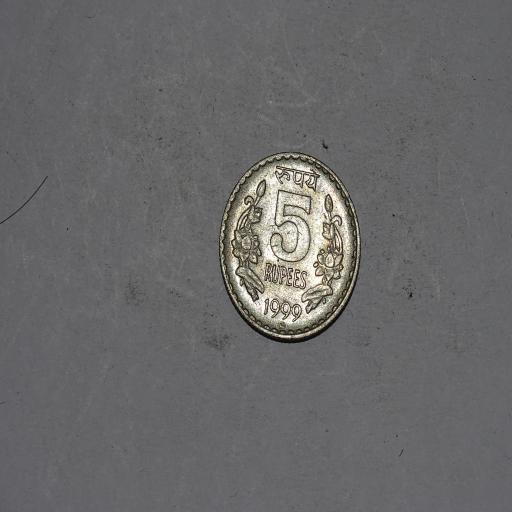rupee5: (218, 150, 360, 344)
